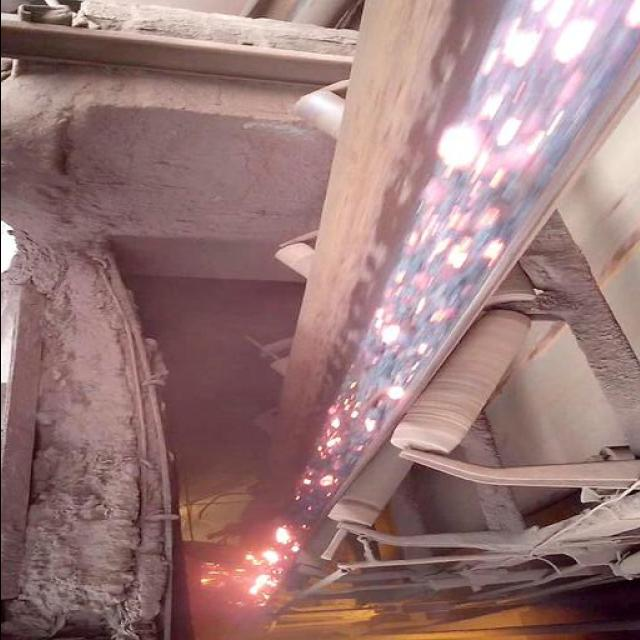conveyor: (211, 0, 640, 628)
